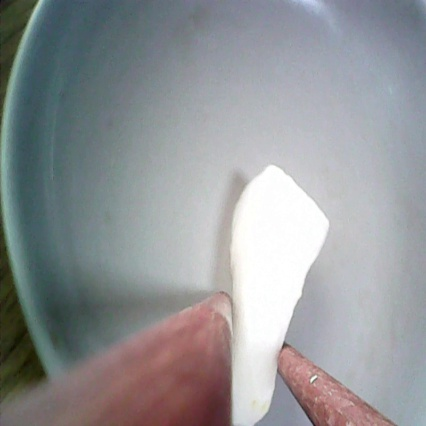white_chinese-yam: (226, 158, 334, 426)
